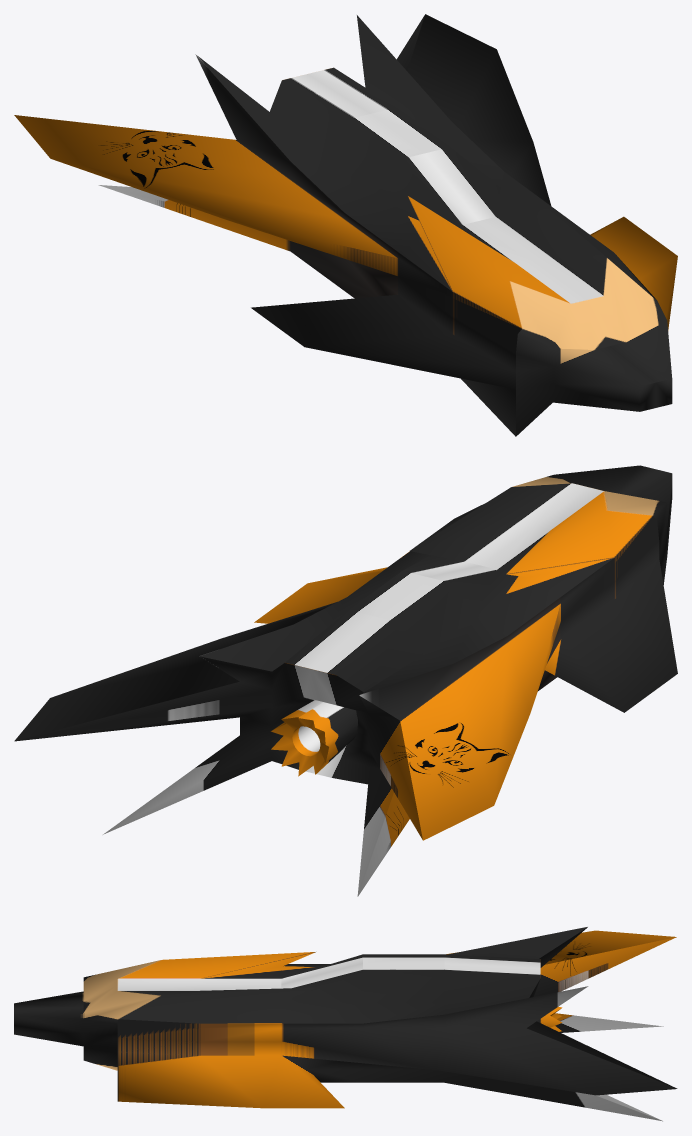
The model's file is Medium cat ship.obj.
3 views of the same model, one above another, from view 1: azimuth 30°, elevation 25°; view 2: azimuth 150°, elevation 25°; view 3: azimuth 270°, elevation 25° (orthographic). The views are drawn at different scales.
Parts seen in each view (by area): view 1: Medium_cat_ship:cat; view 2: Medium_cat_ship:cat; view 3: Medium_cat_ship:cat.
Part boxes in pixels (x1,y1,x2,y2): Medium_cat_ship:cat: (14,14,677,436); Medium_cat_ship:cat: (14,465,677,896); Medium_cat_ship:cat: (14,926,677,1121).
Bounding box in the file's own units: 47.58 × 16 × 80.95.
